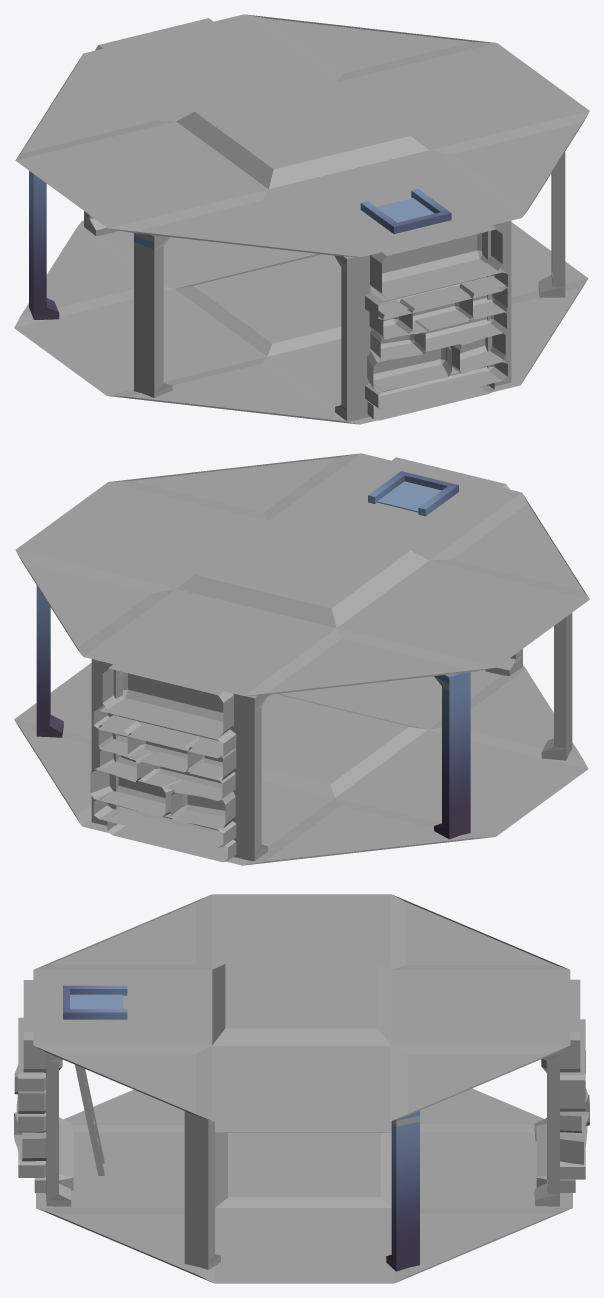
Rendered from ShellWBonesFBX.fbx.
3 renders of one model, top to bottom at view 1: azimuth 30°, elevation 25°; view 2: azimuth 150°, elevation 25°; view 3: azimuth 270°, elevation 25°, orthographic. The views are drawn at different scales.
Parts seen in each view (by area): view 1: CoreShell1; view 2: CoreShell1; view 3: CoreShell1.
Boxes of the visible parts, left/top/right/bottom form: CoreShell1: left=14, top=14, right=589, bottom=424; CoreShell1: left=14, top=453, right=589, bottom=865; CoreShell1: left=14, top=894, right=589, bottom=1283.
Bounding box in the file's own units: 14.52 × 5.35 × 15.57.
Materials: 2 (1 with a texture image).
